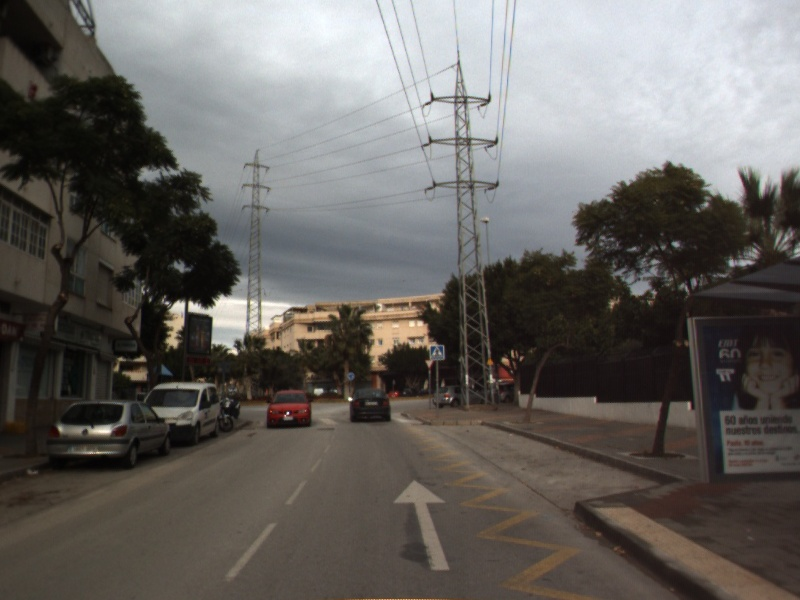STRAIGHT: (390, 476, 456, 573)
